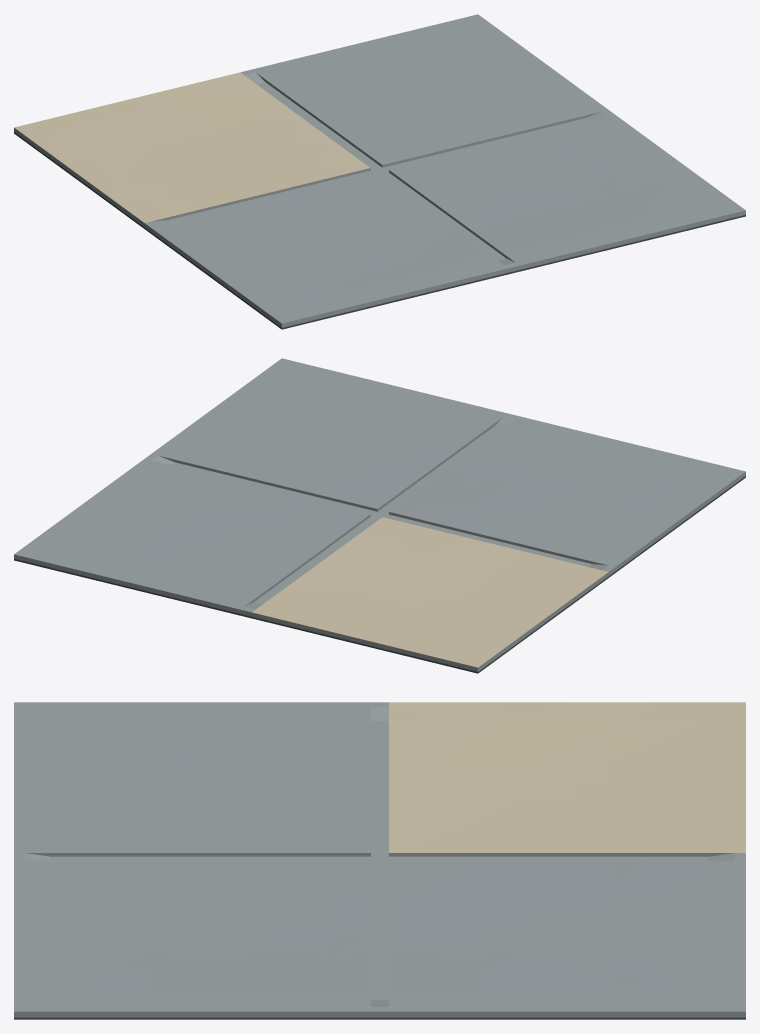
Rendered from old-world-concrete-tile-55e7a0.glb.
The picture shows the model from 3 angles, top to bottom: view 1: azimuth 30°, elevation 25°; view 2: azimuth 150°, elevation 25°; view 3: azimuth 270°, elevation 25°; orthographic projection. The views are drawn at different scales.
Parts seen in each view (by area): view 1: old-world-concrete-tile-mesh; view 2: old-world-concrete-tile-mesh; view 3: old-world-concrete-tile-mesh.
Part boxes in pixels (<box>): old-world-concrete-tile-mesh: <box>14,14,745,329</box>; old-world-concrete-tile-mesh: <box>14,358,745,673</box>; old-world-concrete-tile-mesh: <box>14,702,745,1019</box>.
Size of the model in its own units: 4 by 0.05 by 4.
